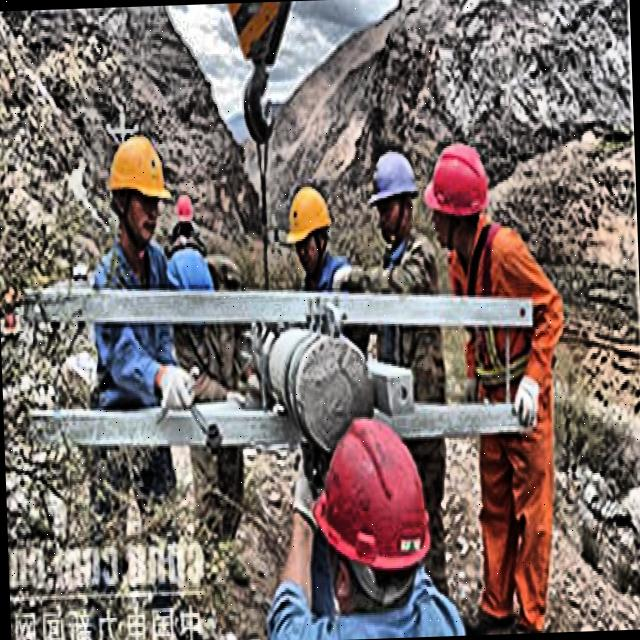helmet: (302, 402, 442, 624), (101, 126, 173, 252), (422, 136, 496, 254), (161, 242, 218, 344), (283, 178, 334, 282), (368, 146, 420, 246), (174, 190, 194, 243)
